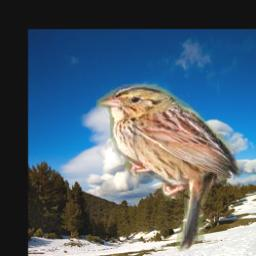Sparrow: (97, 85, 242, 255)
